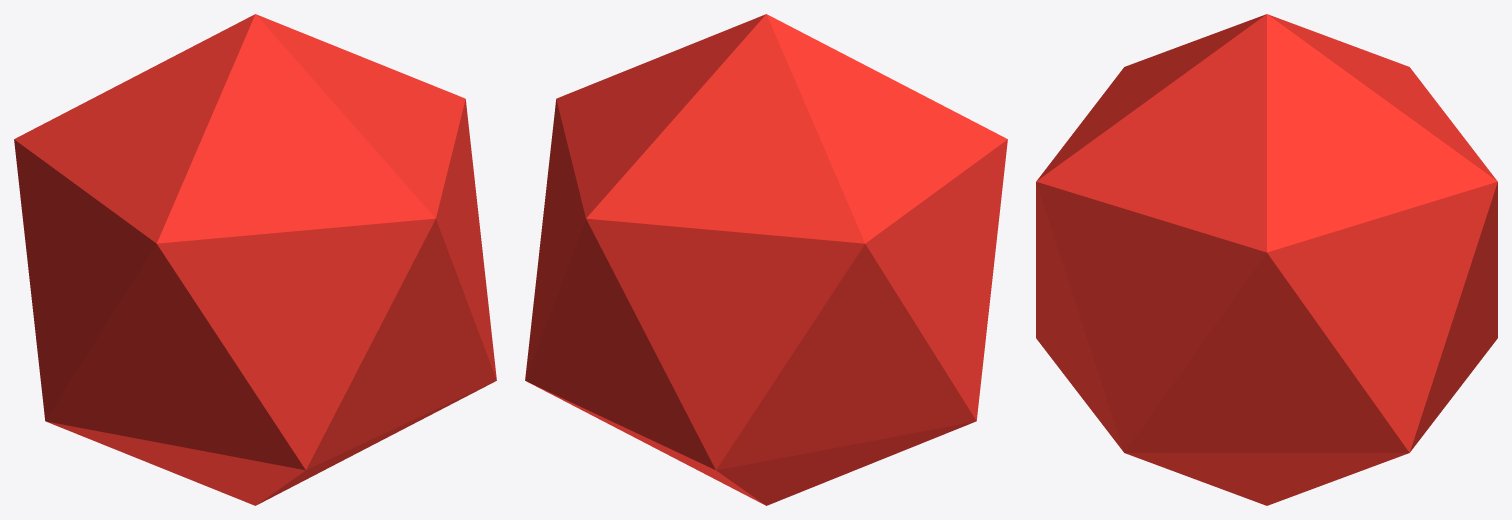
Rendered from konnpe.obj.
3 views of the same model, side by side, from view 1: azimuth 30°, elevation 25°; view 2: azimuth 150°, elevation 25°; view 3: azimuth 270°, elevation 25° (orthographic).
Parts seen in each view (by area): view 1: ICO球; view 2: ICO球; view 3: ICO球.
Part boxes in pixels (x1=…): ICO球: x1=14, y1=14, x2=496, y2=505; ICO球: x1=525, y1=14, x2=1007, y2=505; ICO球: x1=1036, y1=14, x2=1497, y2=505.
Bounding box in the file's own units: 1.79 × 2 × 1.7.
Materials: 1 (1 with a texture image).
